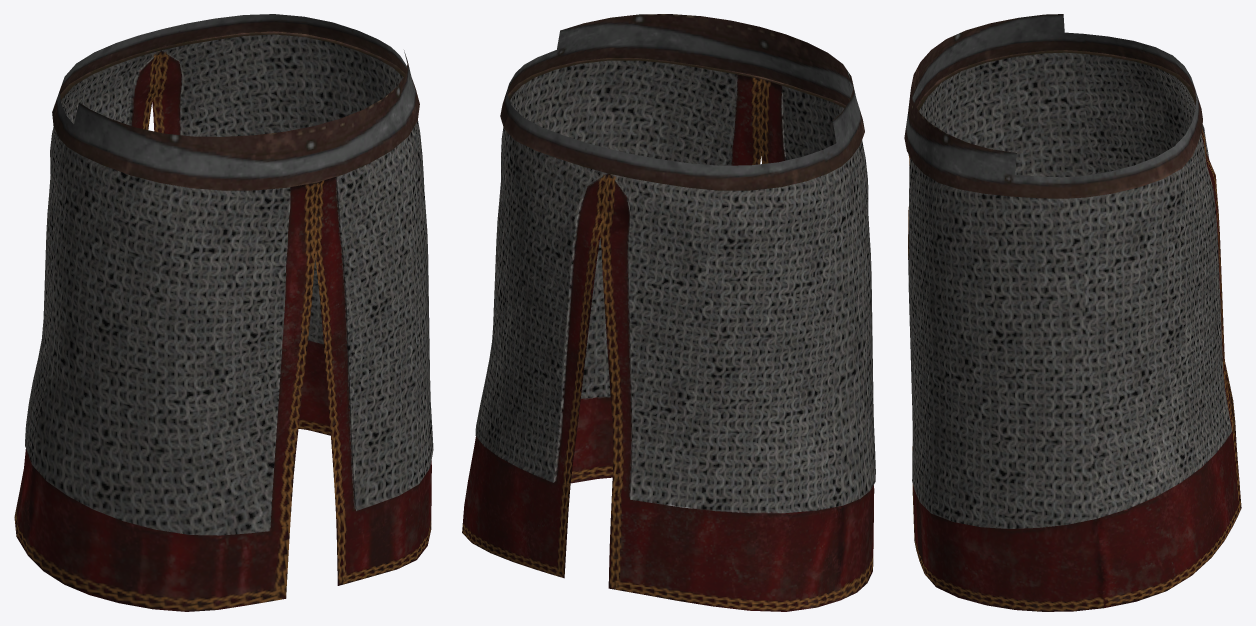
The model's file is clo_cts_rohan_armor_captain1.fbx.
3 renders of one model, left to right at view 1: azimuth 30°, elevation 25°; view 2: azimuth 150°, elevation 25°; view 3: azimuth 270°, elevation 25°, orthographic. The views are drawn at different scales.
Visible parts, largest first — view 1: clo_cts_rohan_armor_captain1; view 2: clo_cts_rohan_armor_captain1; view 3: clo_cts_rohan_armor_captain1.
Boxes of the visible parts, x1=… form: clo_cts_rohan_armor_captain1: x1=14, y1=14, x2=433, y2=611; clo_cts_rohan_armor_captain1: x1=462, y1=14, x2=875, y2=611; clo_cts_rohan_armor_captain1: x1=904, y1=14, x2=1241, y2=611.
Size of the model in its own units: 0.4671 by 0.3922 by 0.5757.
Materials: 1 (1 with a texture image).
